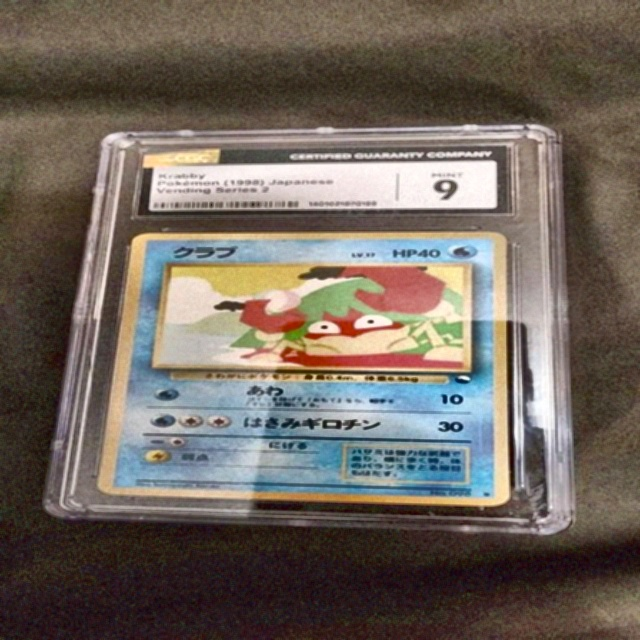card: (96, 231, 509, 507)
